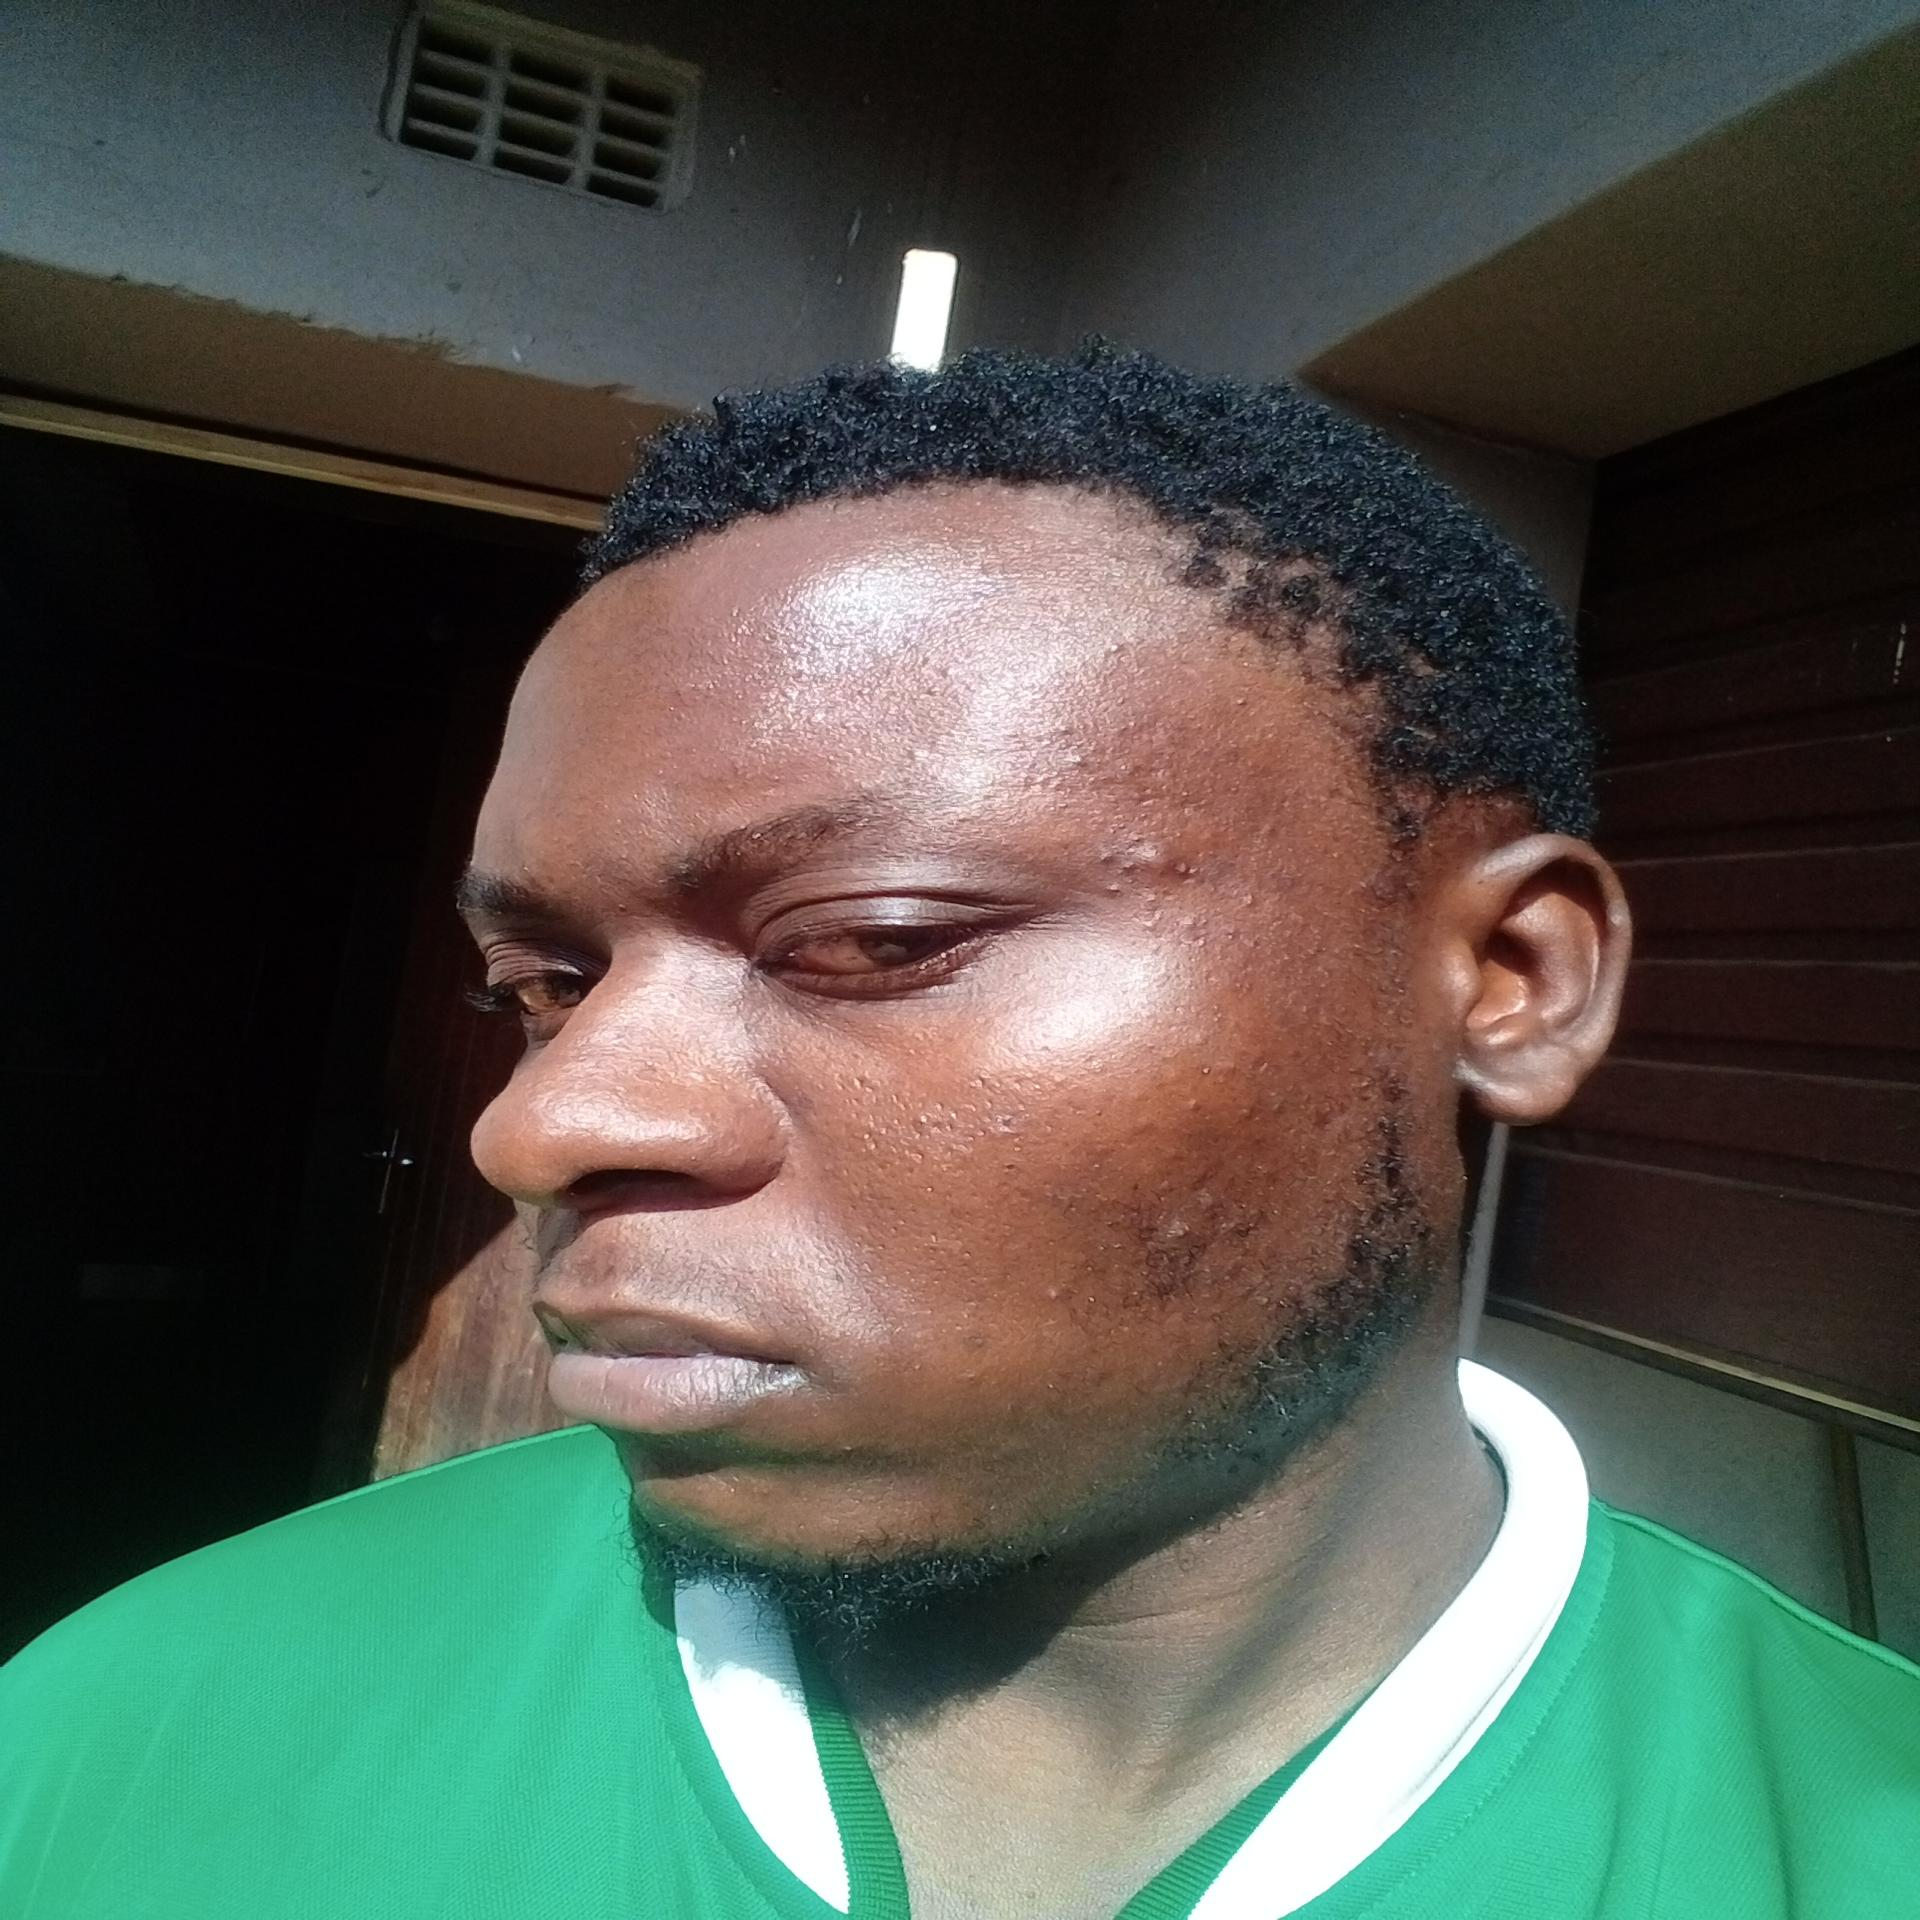Acne: (1129, 835, 1185, 883), (1090, 847, 1136, 902), (1155, 1211, 1199, 1255), (898, 740, 934, 767), (1027, 1284, 1064, 1308), (1064, 751, 1099, 774), (1136, 911, 1166, 937), (1125, 1116, 1157, 1141), (1099, 635, 1132, 658), (960, 1329, 988, 1354), (1229, 693, 1257, 717), (1183, 914, 1208, 937), (1236, 1099, 1259, 1122), (1259, 819, 1284, 840), (1050, 719, 1076, 738), (1238, 888, 1262, 907), (1185, 1095, 1206, 1116), (1187, 1030, 1211, 1048), (925, 682, 944, 700), (960, 1368, 976, 1389), (937, 665, 958, 679)
Englarged Pores: (828, 1069, 1050, 1180)
